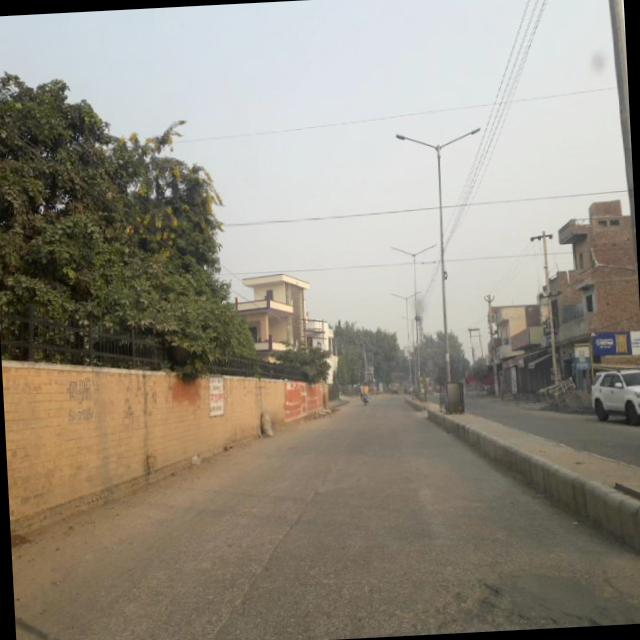pothole: (412, 560, 632, 634)
